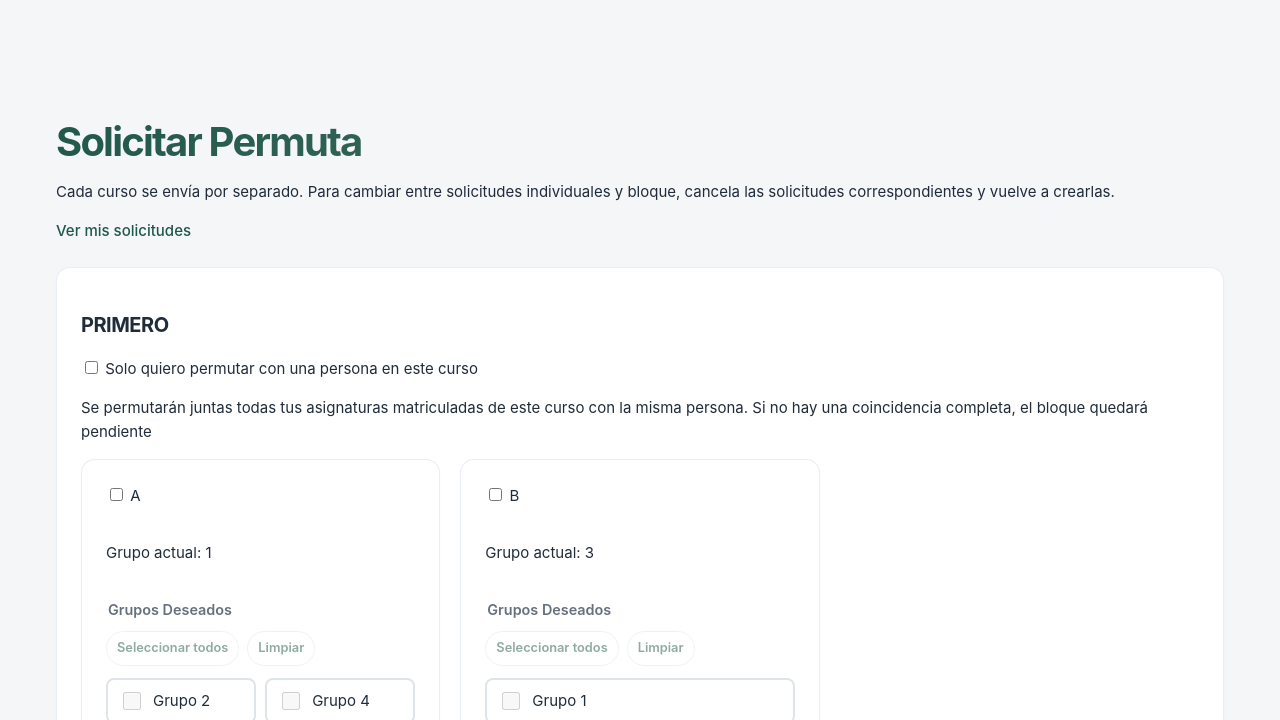
it: solicitudes por curso › recarga matrícula al recibir 400 y conserva solo destinos válidos
Click the switch. click: (92, 368)
box: x1=85 y1=361 x2=98 y2=374
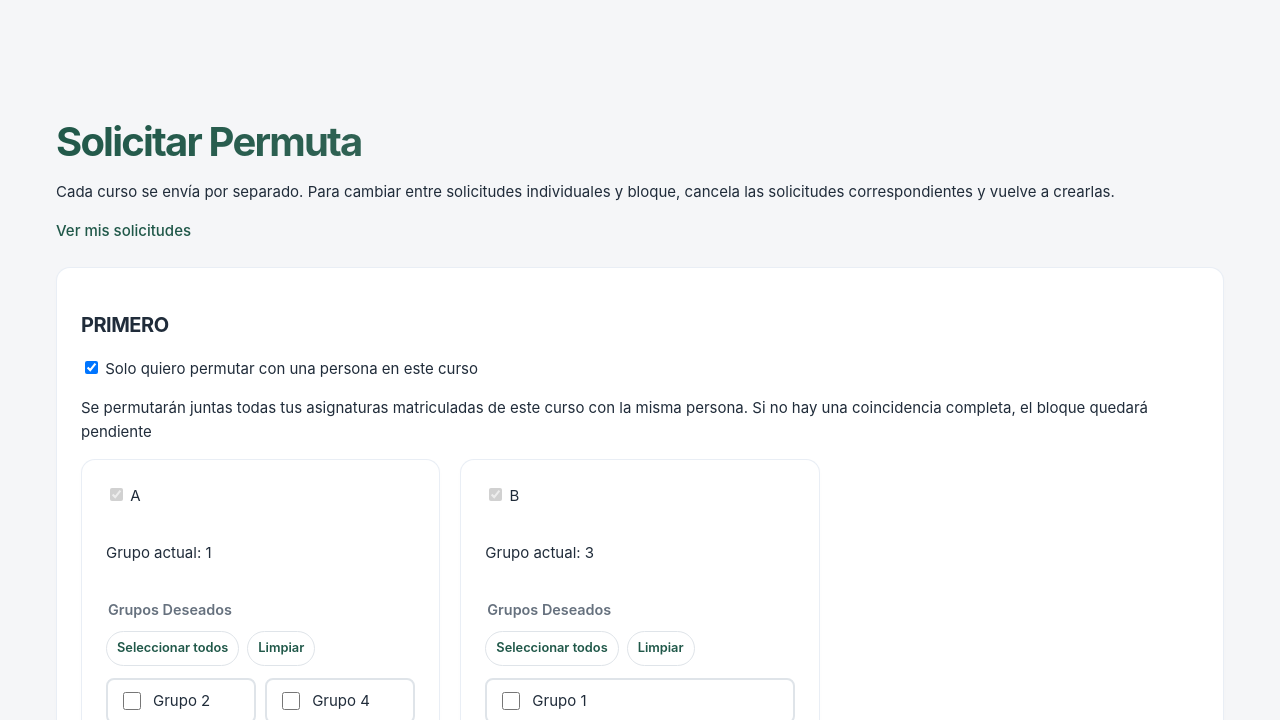
Click the checkbox labelled "Grupo 2". click: (132, 701)
box: x1=123 y1=692 x2=141 y2=710
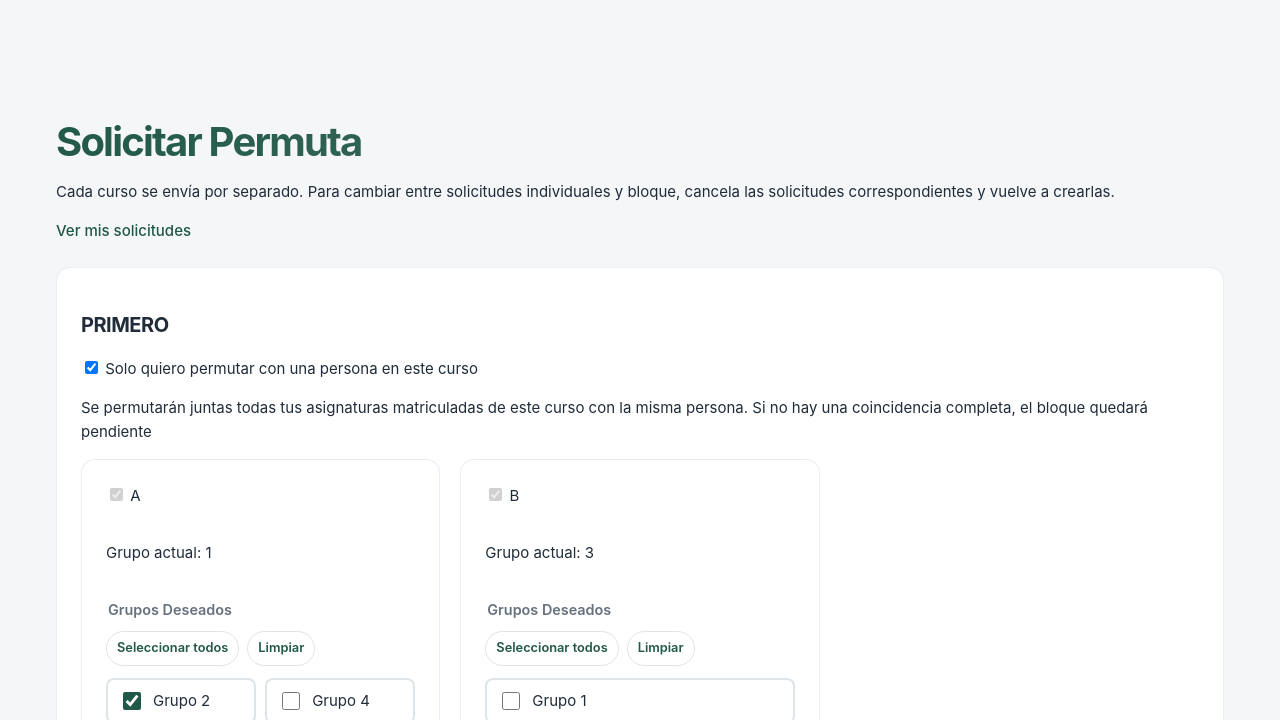
Click the checkbox labelled "Grupo 1". click: (511, 701)
box: x1=502 y1=692 x2=520 y2=710
(page scrolled)
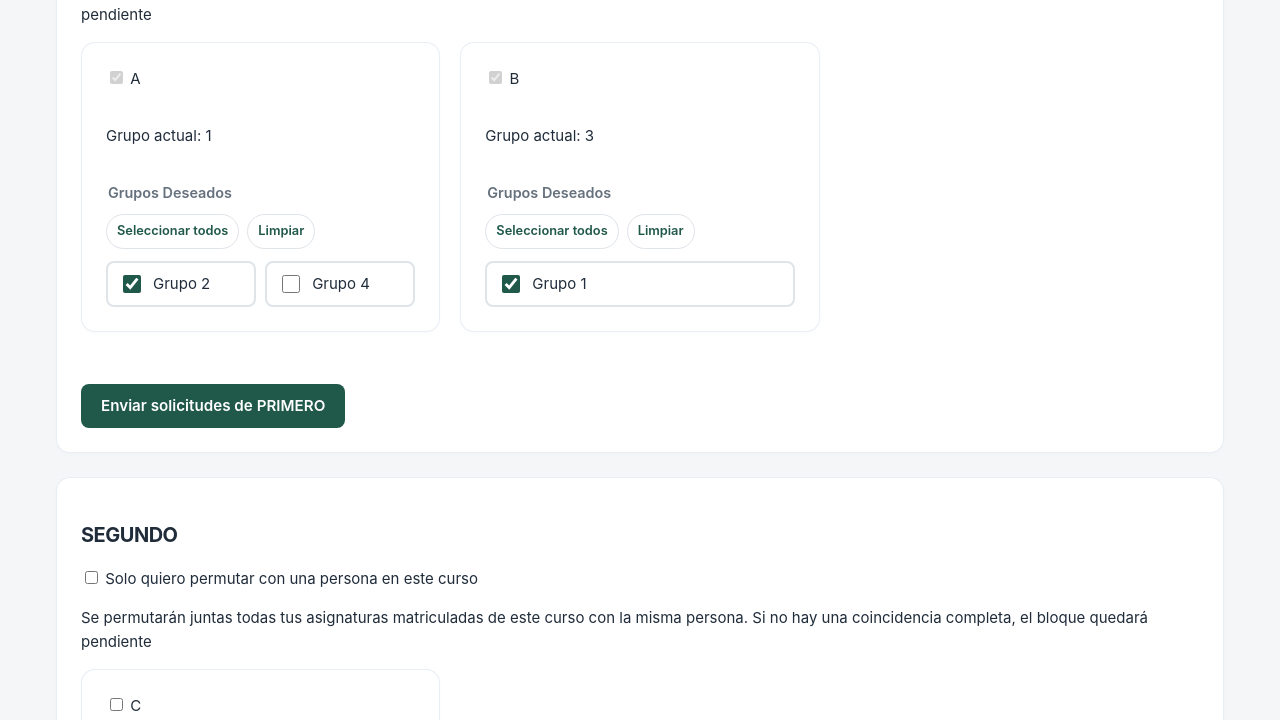
Click the button "Enviar solicitudes de PRIMERO". click: (213, 406)
box: x1=81 y1=384 x2=345 y2=428
(page scrolled)
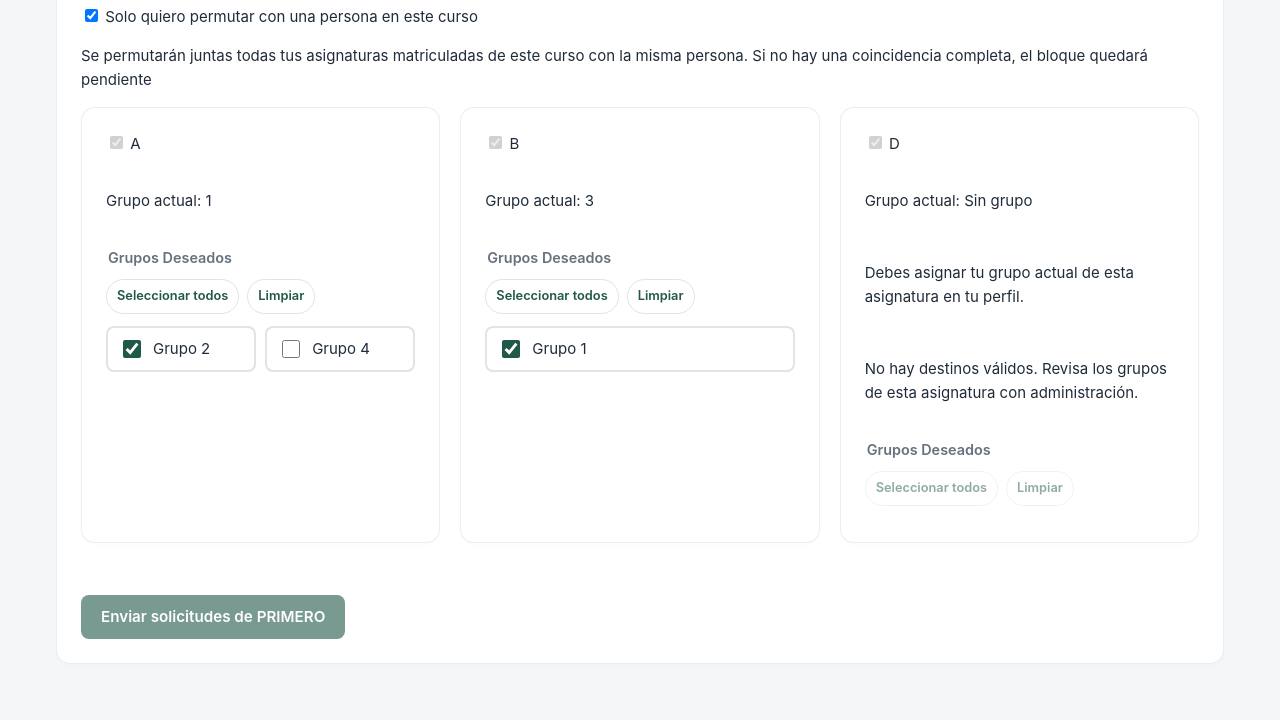
Expected: the checkbox labelled "Grupo 2" is checked, x1=123 y1=340 x2=141 y2=358
Expected: the checkbox labelled "D" is shown, x1=869 y1=136 x2=882 y2=149
Expected: the button "Enviar solicitudes de PRIMERO" is disabled, x1=81 y1=595 x2=345 y2=639
